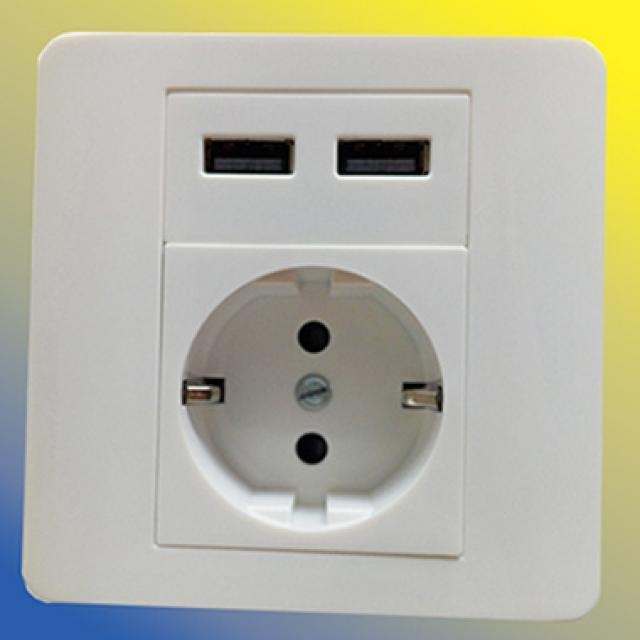typeb: (29, 26, 624, 640)
